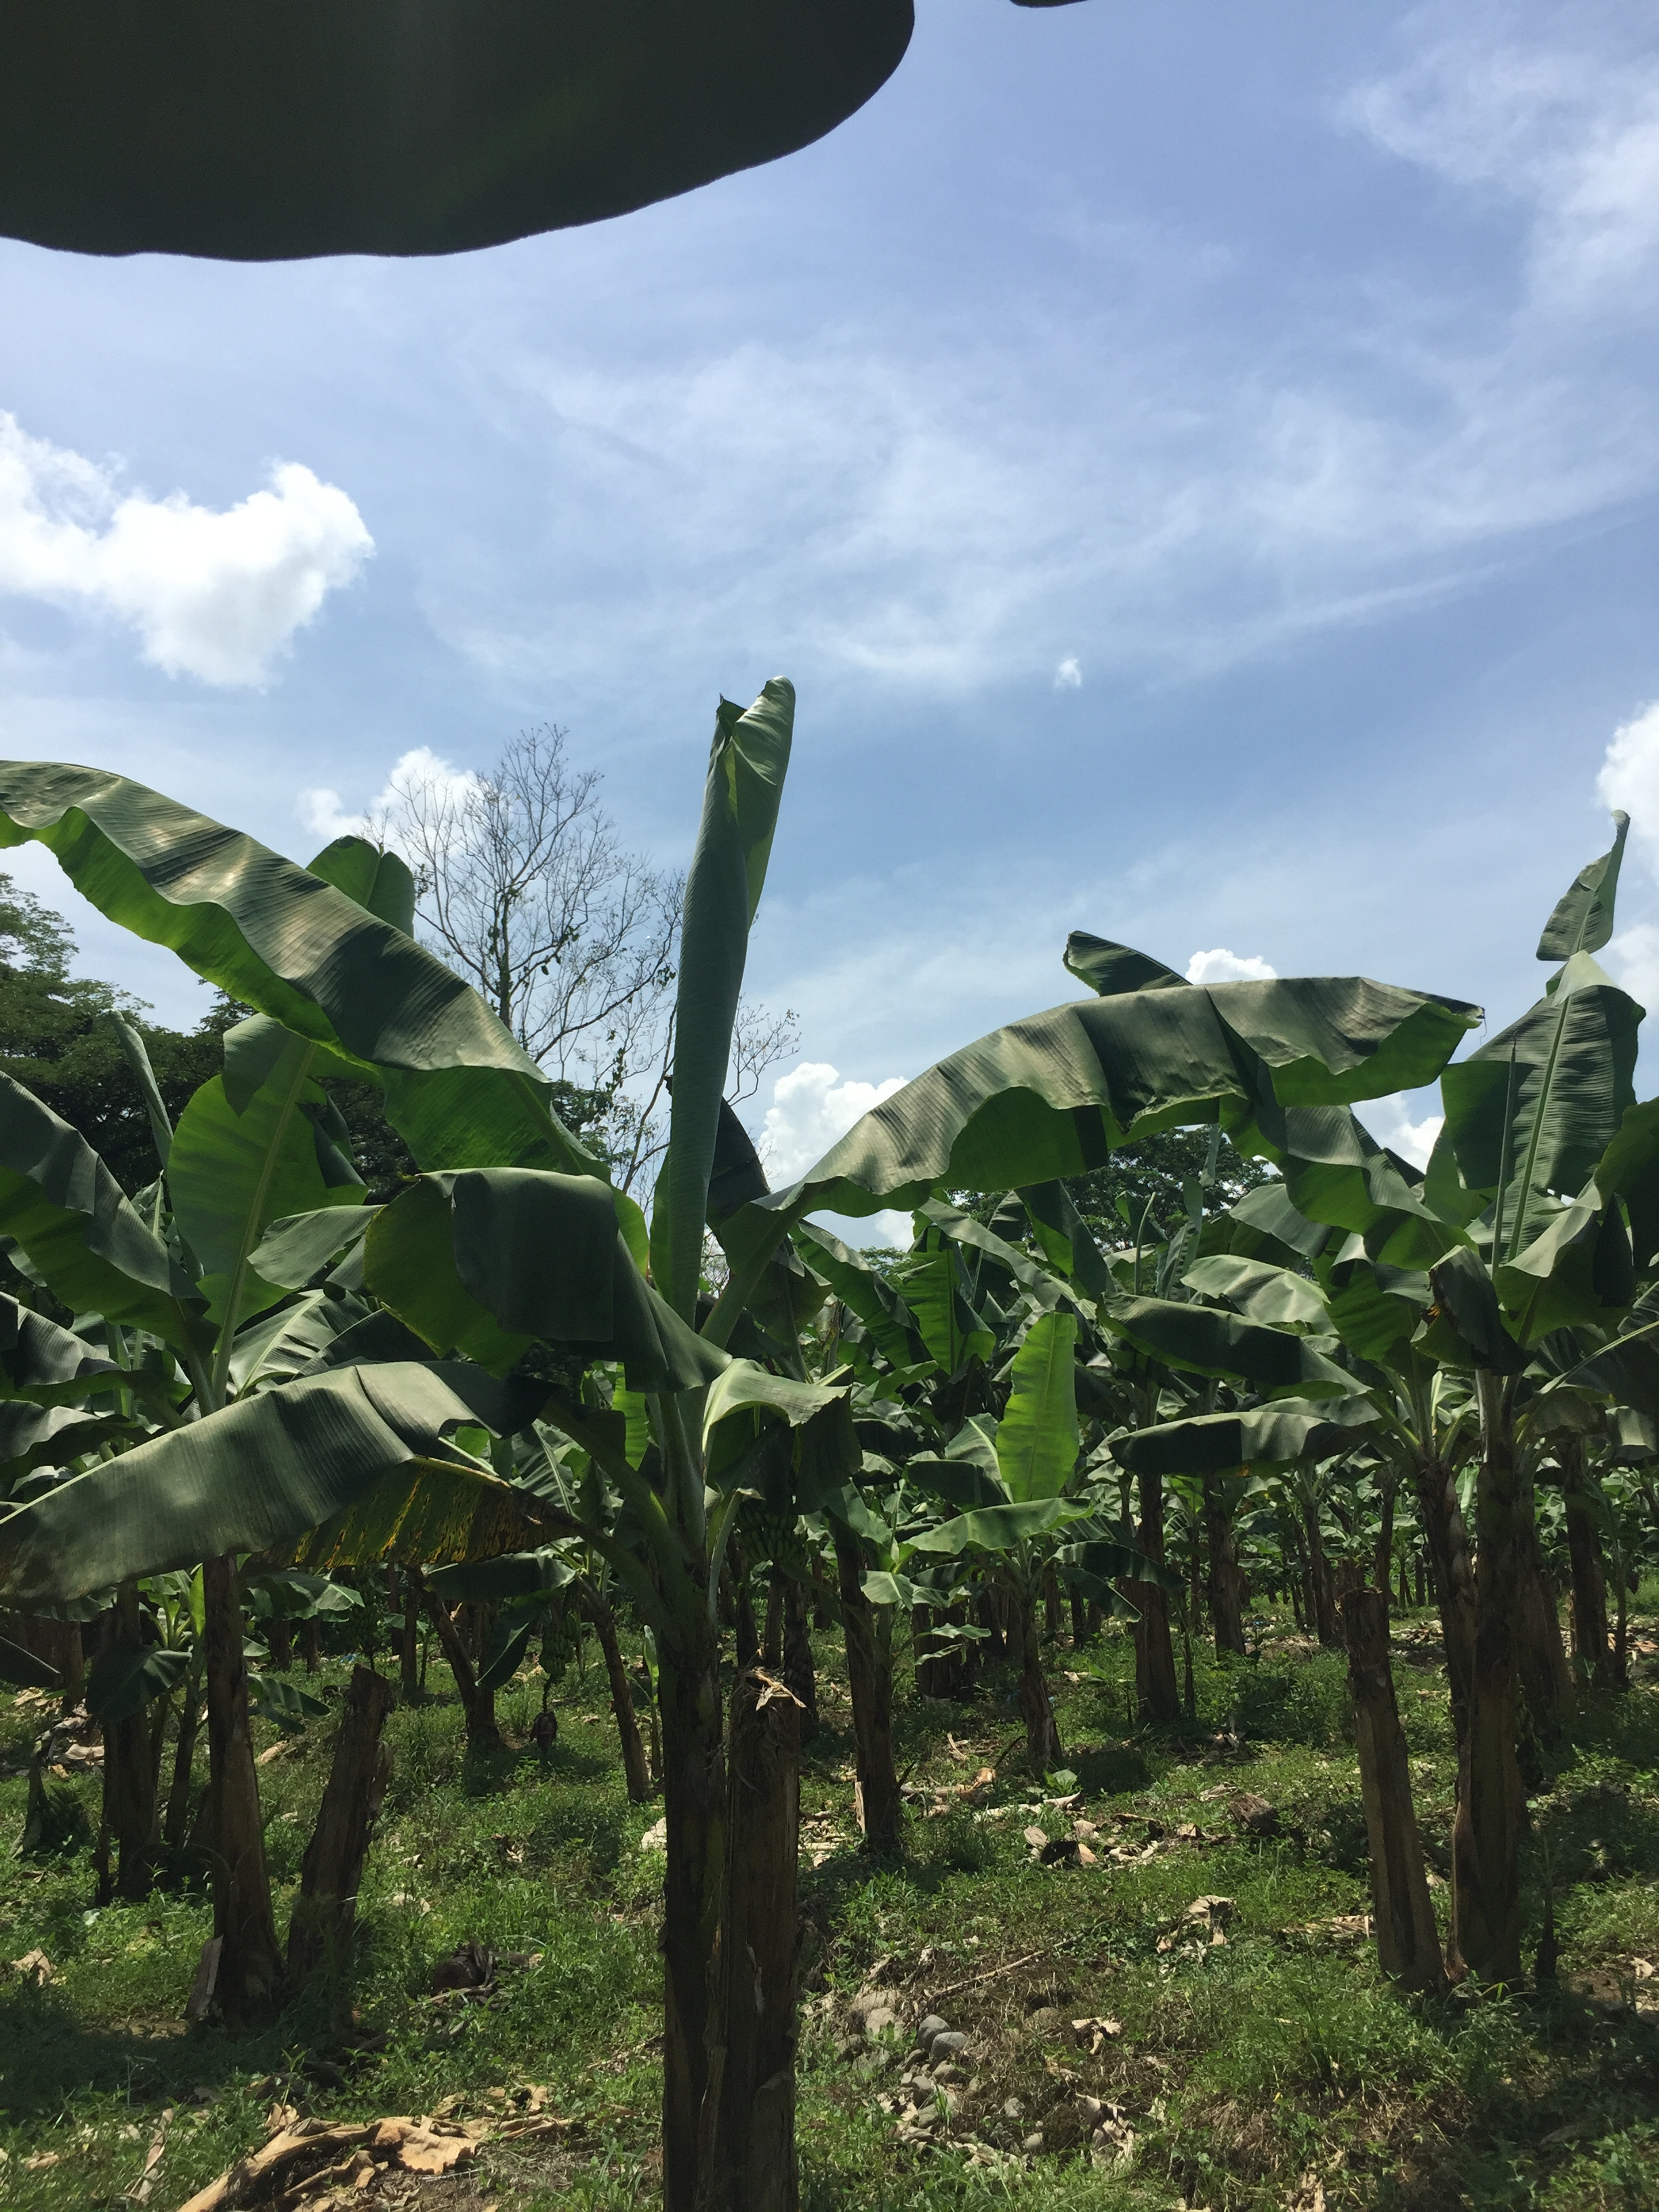candleleafs: (648, 679, 796, 1291), (1492, 1029, 1521, 1277), (1133, 1191, 1157, 1296)
